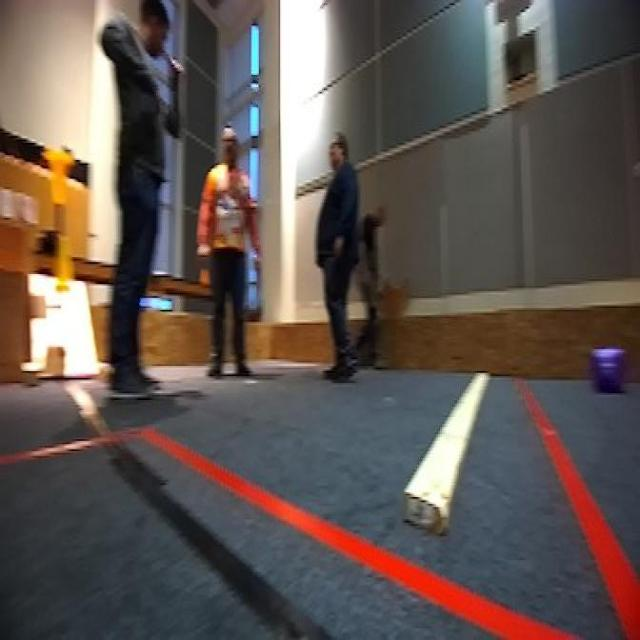frc_cone: (47, 148, 75, 211), (54, 235, 76, 296)
frc_cube: (592, 347, 625, 393)
